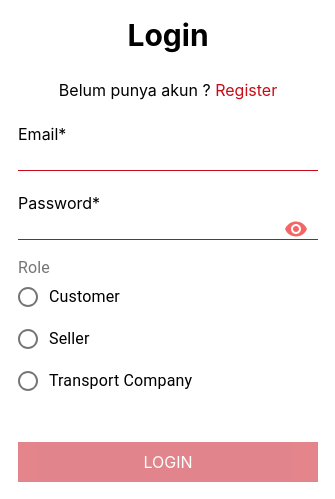
Test case: valid form
The image size is (335, 499).
expect the heading "Login" is shown: met, box x1=127 y1=16 x2=208 y2=52
Step 1. Type "example@mail.com" into the field with test id "email" → (168, 158), box x1=18 y1=146 x2=318 y2=170
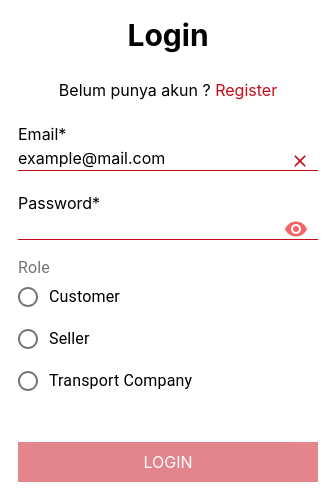
Step 2. Type "qwertyuiop" into the password field with test id "password" → (168, 227), box x1=18 y1=214 x2=318 y2=240
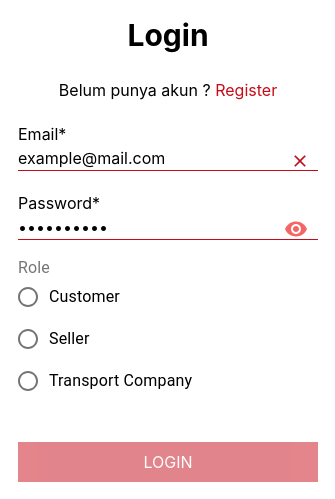
Step 3. Click the radio button labelled "Customer" → (68, 296), box x1=16 y1=284 x2=120 y2=308
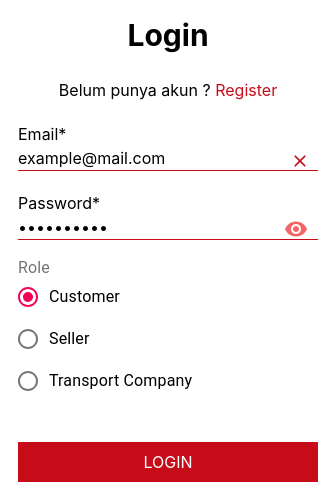
expect the button "LOGIN" is enabled: met, box x1=18 y1=442 x2=318 y2=482
